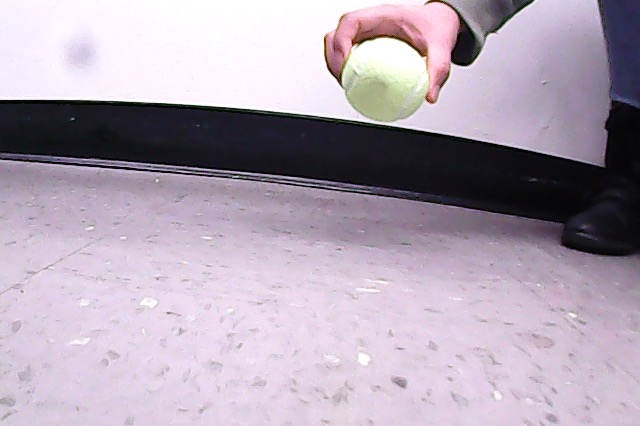ball: (343, 39, 429, 123)
